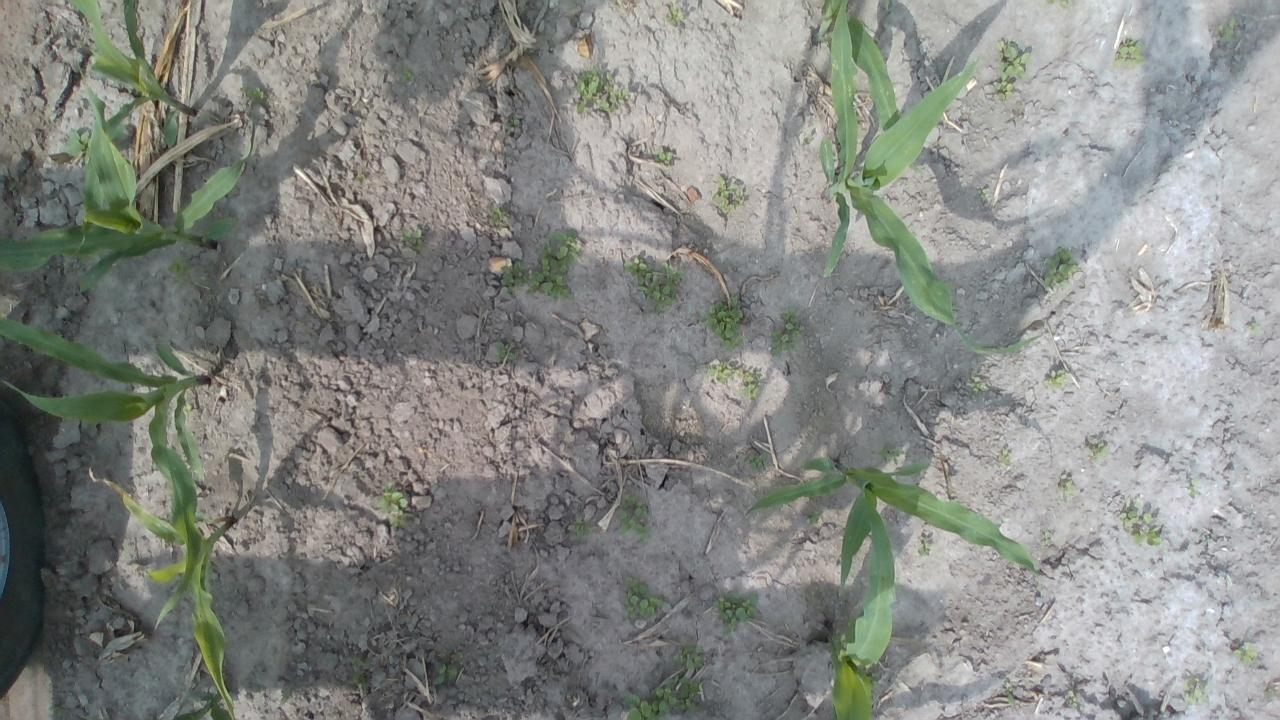Maize: (819, 0, 1034, 357), (0, 84, 258, 294), (0, 314, 212, 542), (745, 456, 1036, 575), (100, 480, 240, 720), (68, 0, 198, 147), (831, 507, 897, 720), (814, 0, 899, 132), (168, 686, 232, 720)
Weeds: (526, 226, 582, 301), (622, 255, 684, 314), (576, 70, 630, 114), (707, 296, 748, 352), (622, 572, 667, 620), (1120, 496, 1162, 546), (714, 590, 758, 632), (377, 480, 413, 530), (615, 494, 651, 543), (654, 676, 700, 714), (769, 306, 803, 354), (1044, 248, 1080, 290), (996, 40, 1032, 81), (712, 174, 746, 216), (626, 690, 664, 720), (1114, 38, 1146, 69), (672, 642, 706, 670), (1184, 674, 1210, 706), (704, 360, 735, 386), (64, 129, 90, 156), (499, 260, 528, 284), (167, 254, 192, 281), (739, 371, 762, 400), (1214, 16, 1237, 44), (432, 663, 457, 688), (1232, 642, 1260, 664), (1042, 368, 1066, 392), (992, 79, 1015, 101), (1090, 439, 1110, 464), (402, 228, 426, 248), (487, 206, 509, 226), (570, 517, 592, 537), (664, 6, 682, 28), (496, 342, 516, 361), (744, 455, 766, 472), (246, 86, 266, 104), (879, 446, 900, 462), (969, 377, 987, 394), (350, 671, 368, 687), (1246, 320, 1262, 338), (654, 150, 674, 164), (976, 185, 992, 202), (1043, 0, 1072, 9), (1004, 681, 1014, 705), (917, 536, 929, 556), (1188, 480, 1202, 497), (350, 656, 368, 669), (400, 68, 415, 83), (280, 688, 294, 704), (502, 118, 520, 130), (1063, 478, 1074, 496), (1264, 687, 1278, 700), (1001, 448, 1010, 465), (809, 510, 820, 523), (1067, 696, 1078, 706), (1045, 528, 1051, 544)
